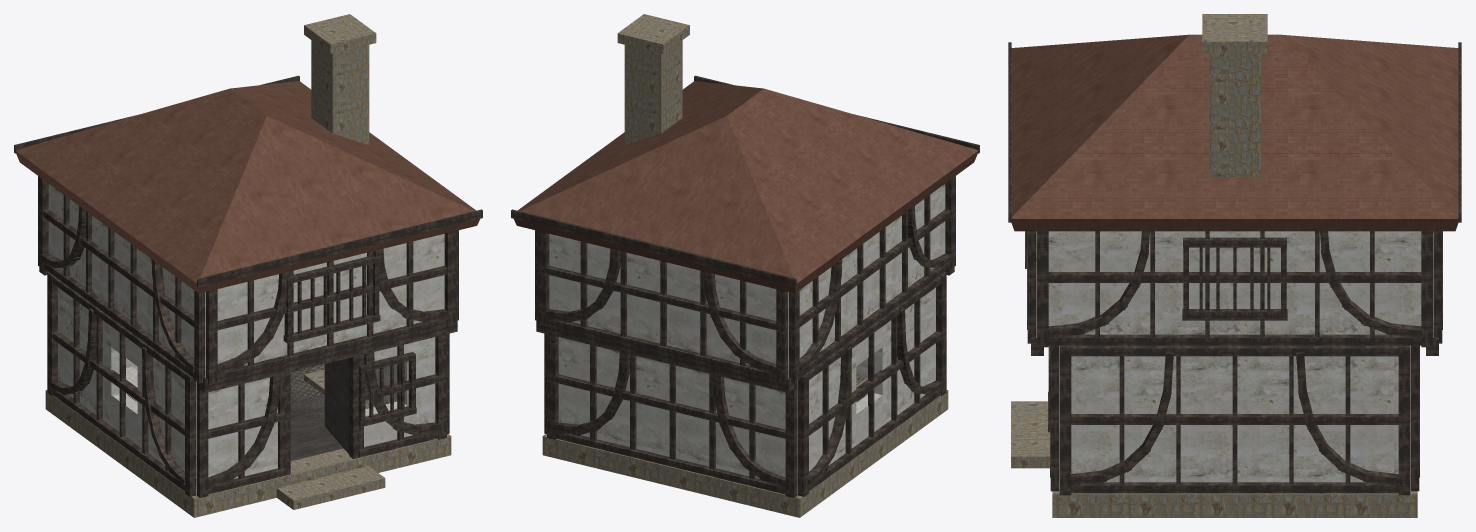
The model's file is prop_house_a_v2.glb.
3 views of the same model, side by side, from view 1: azimuth 30°, elevation 25°; view 2: azimuth 150°, elevation 25°; view 3: azimuth 270°, elevation 25° (orthographic). The views are drawn at different scales.
Parts seen in each view (by area): view 1: building_house_a_v2; view 2: building_house_a_v2; view 3: building_house_a_v2.
Part boxes in pixels (x1,y1,x2,y2): building_house_a_v2: (14, 14, 482, 517); building_house_a_v2: (511, 14, 979, 517); building_house_a_v2: (1008, 14, 1461, 517).
Bounding box in the file's own units: 6.2 × 7.92 × 6.95.
5 materials, 5 textured.
